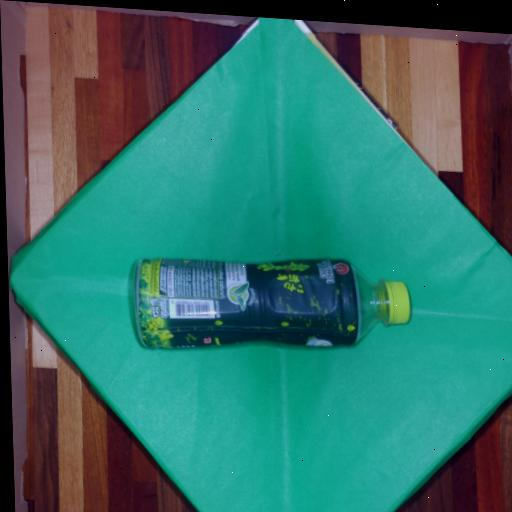bottle: (134, 259, 409, 348)
